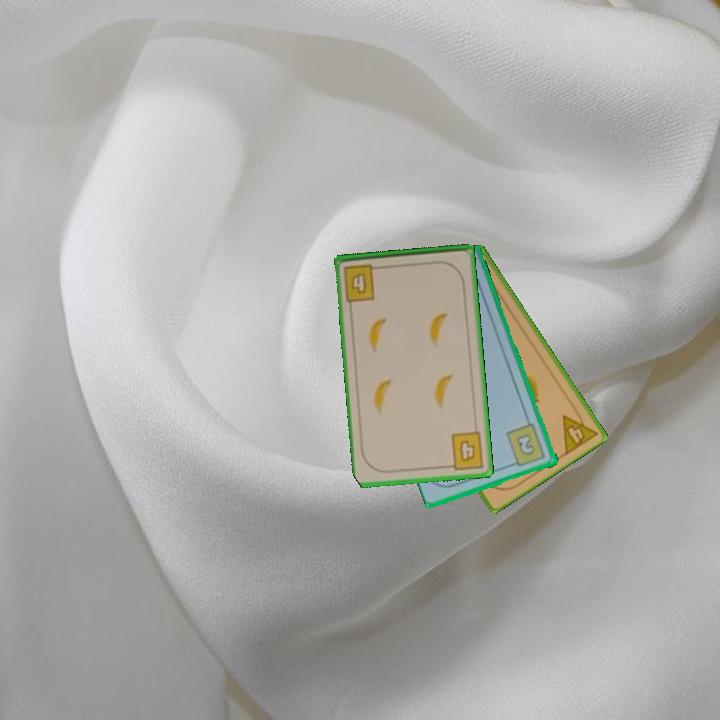2b: (503, 420, 549, 470)
4b: (443, 428, 487, 472), (340, 260, 384, 304)
4p: (559, 403, 600, 458)
